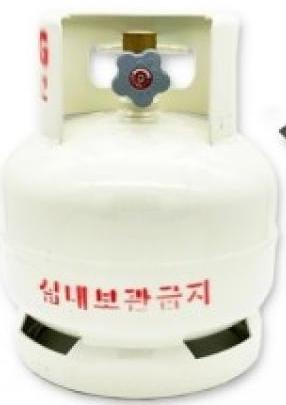cylinder: (1, 1, 286, 405)
